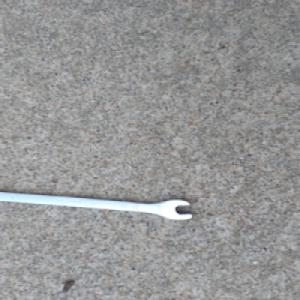Wrench: (0, 187, 196, 221)
